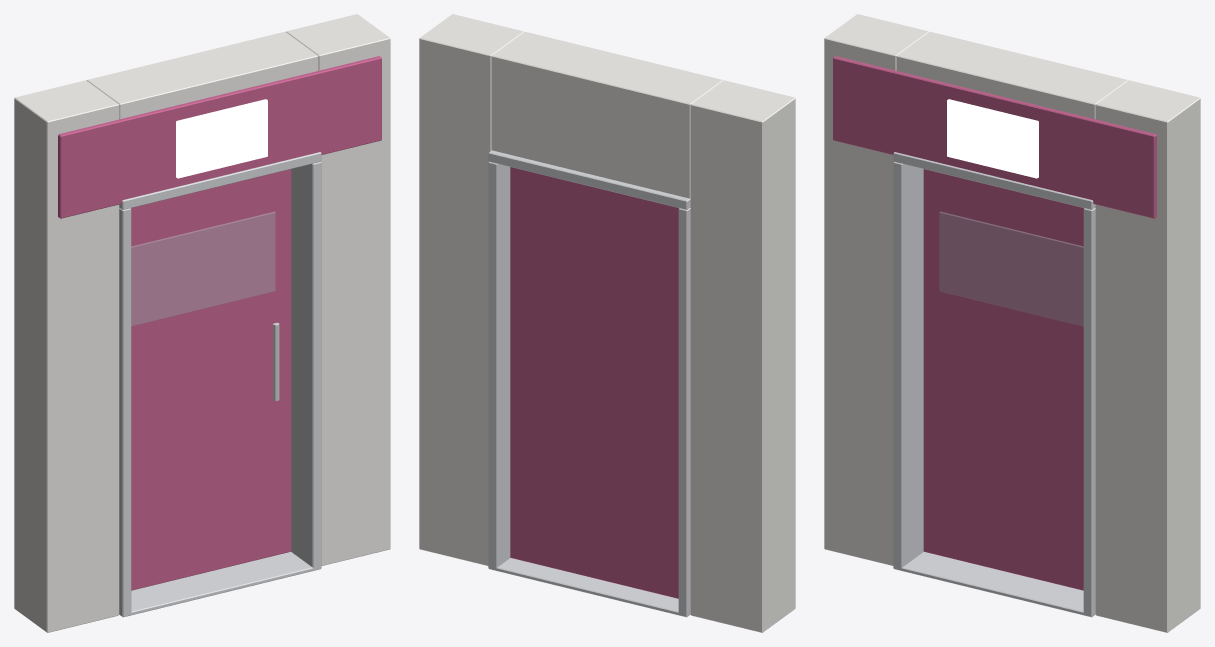
The model's file is motorway-services-and-truck-park-driver-shower-entranc-4ec379bc__35942.glb.
3 renders of one model, left to right at view 1: azimuth 30°, elevation 25°; view 2: azimuth 150°, elevation 25°; view 3: azimuth 330°, elevation 25°, orthographic.
Visible parts, largest first — view 1: driver-shower-entrance, wc-door/berry, wc-door/glass, wc-door/metal; view 2: driver-shower-entrance, wc-door/berry; view 3: driver-shower-entrance, wc-door/berry, wc-door/glass.
Part boxes in pixels (<box>): driver-shower-entrance: <box>14,14,390,632</box>; wc-door/berry: <box>131,169,291,590</box>; wc-door/glass: <box>131,212,275,325</box>; wc-door/metal: <box>273,322,279,400</box>; driver-shower-entrance: <box>419,14,795,632</box>; wc-door/berry: <box>510,167,678,598</box>; driver-shower-entrance: <box>824,14,1200,632</box>; wc-door/berry: <box>923,169,1083,590</box>; wc-door/glass: <box>939,212,1083,325</box>.
Size of the model in its own units: 1.9 by 2.7 by 0.386.
